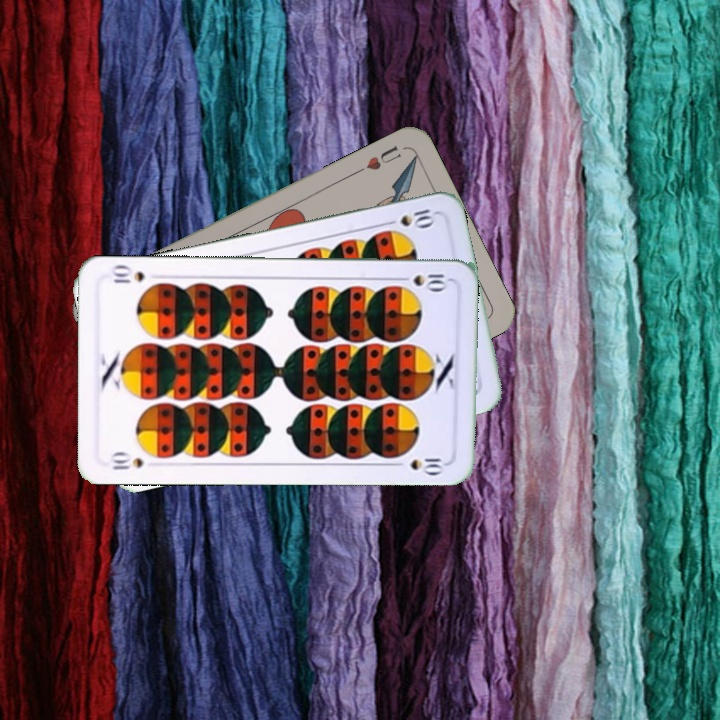HU: (352, 141, 404, 176)
S10: (380, 204, 438, 230), (393, 270, 450, 291), (108, 449, 146, 473)
